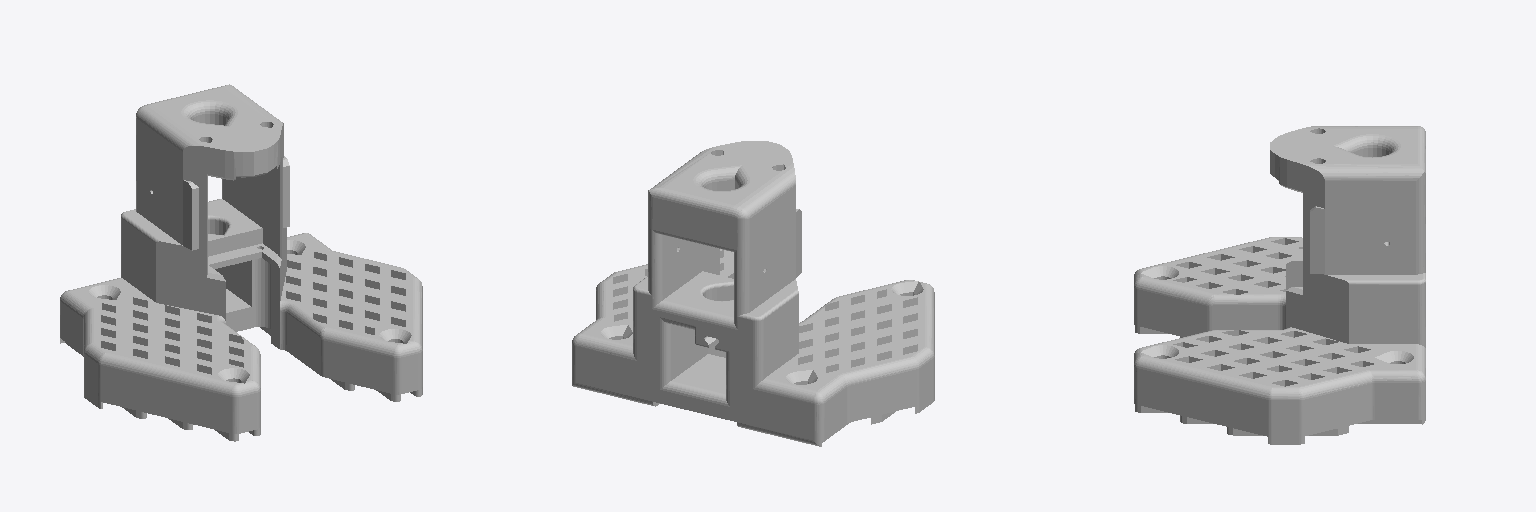
Rendered from base_visuals_base_so101_v2_mesh.obj.
The picture shows the model from 3 angles: view 1: azimuth 30°, elevation 25°; view 2: azimuth 150°, elevation 25°; view 3: azimuth 270°, elevation 25°; orthographic projection.
Size of the model in its own units: 0.1109 by 0.072 by 0.087.